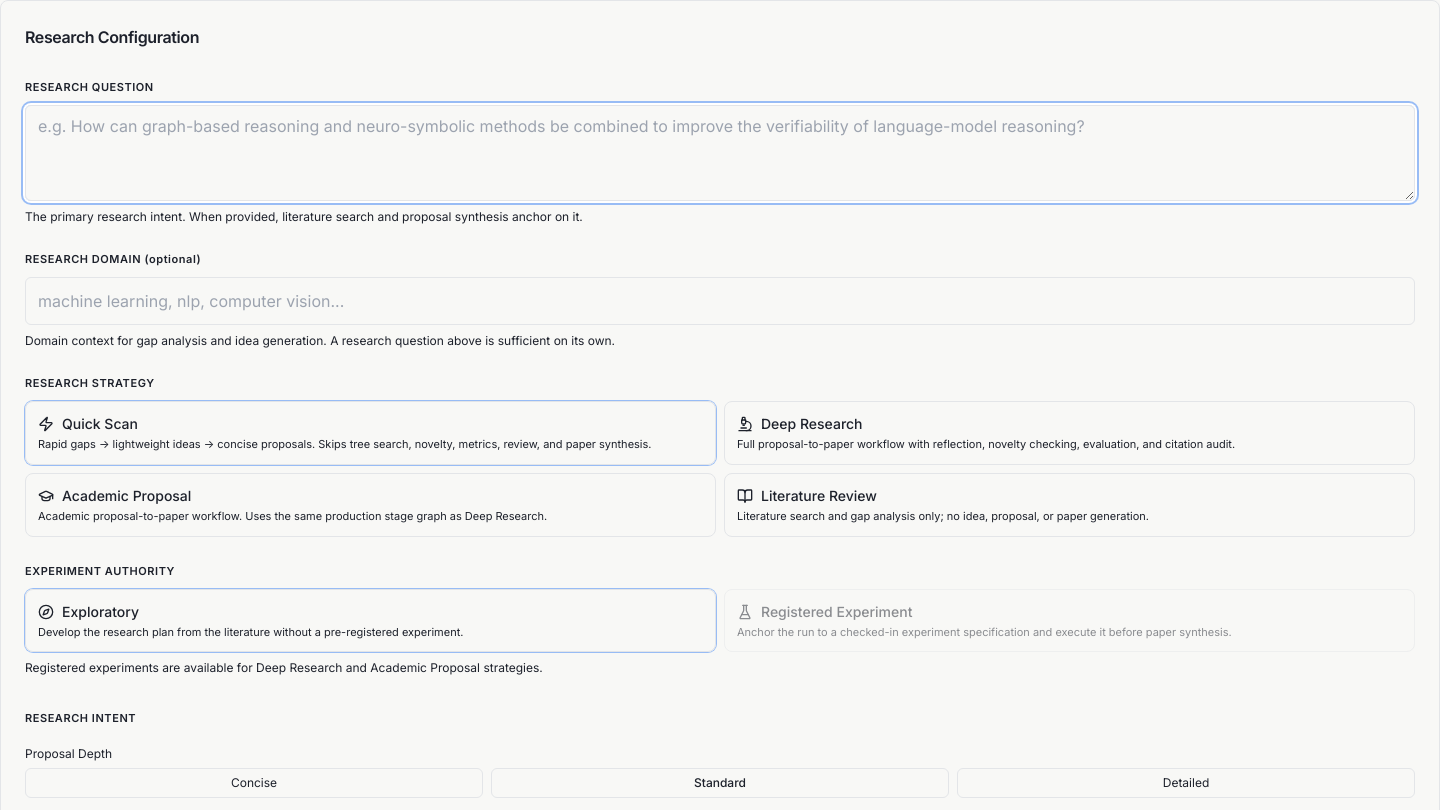
RunConfigForm empirical authority › clears a registered experiment when switching to an incompatible strategy
Click the button with test id "strategy-card-deep_research": (812, 424) [724,401,1415,465]
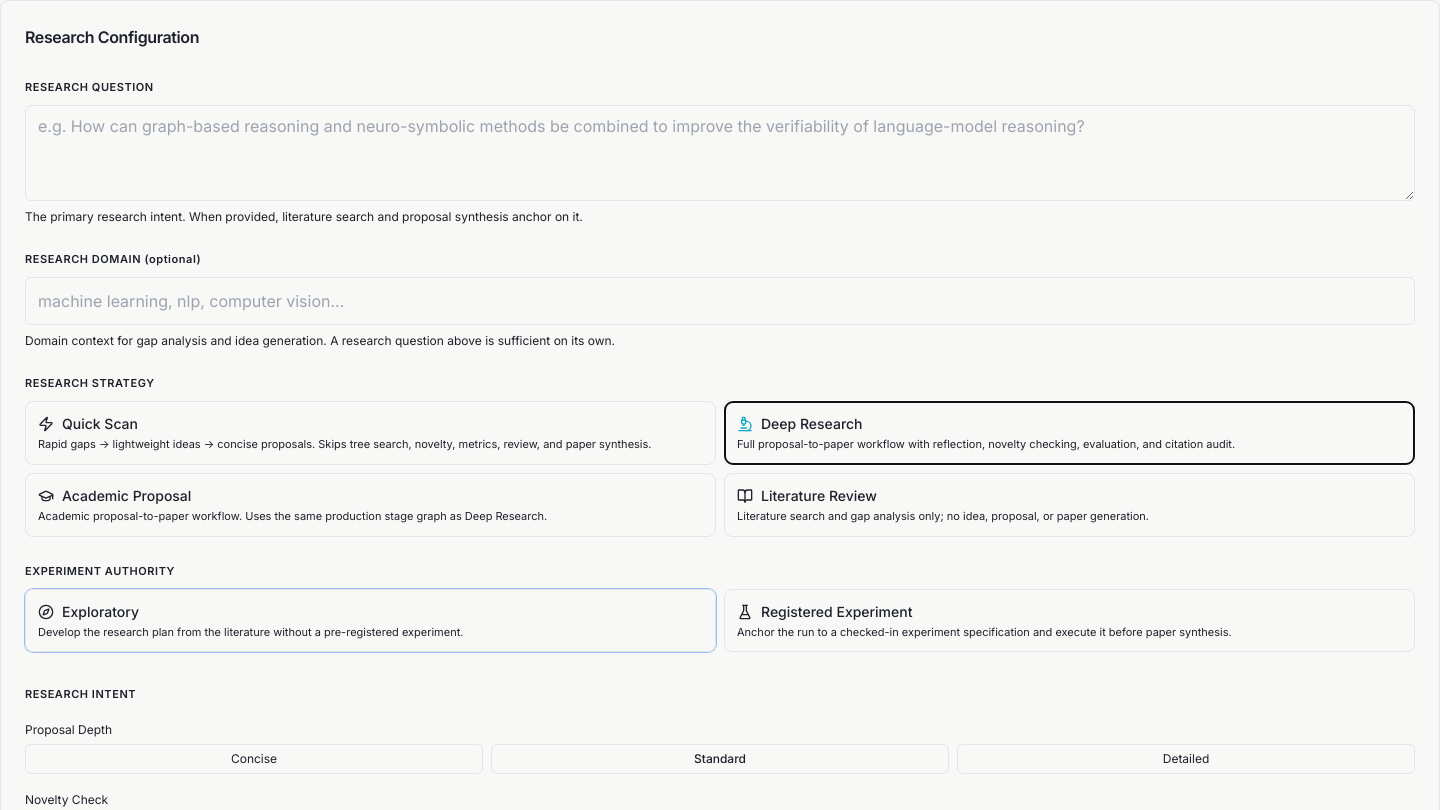
Click the button with test id "experiment-mode-registered": (837, 611) [724,588,1415,652]
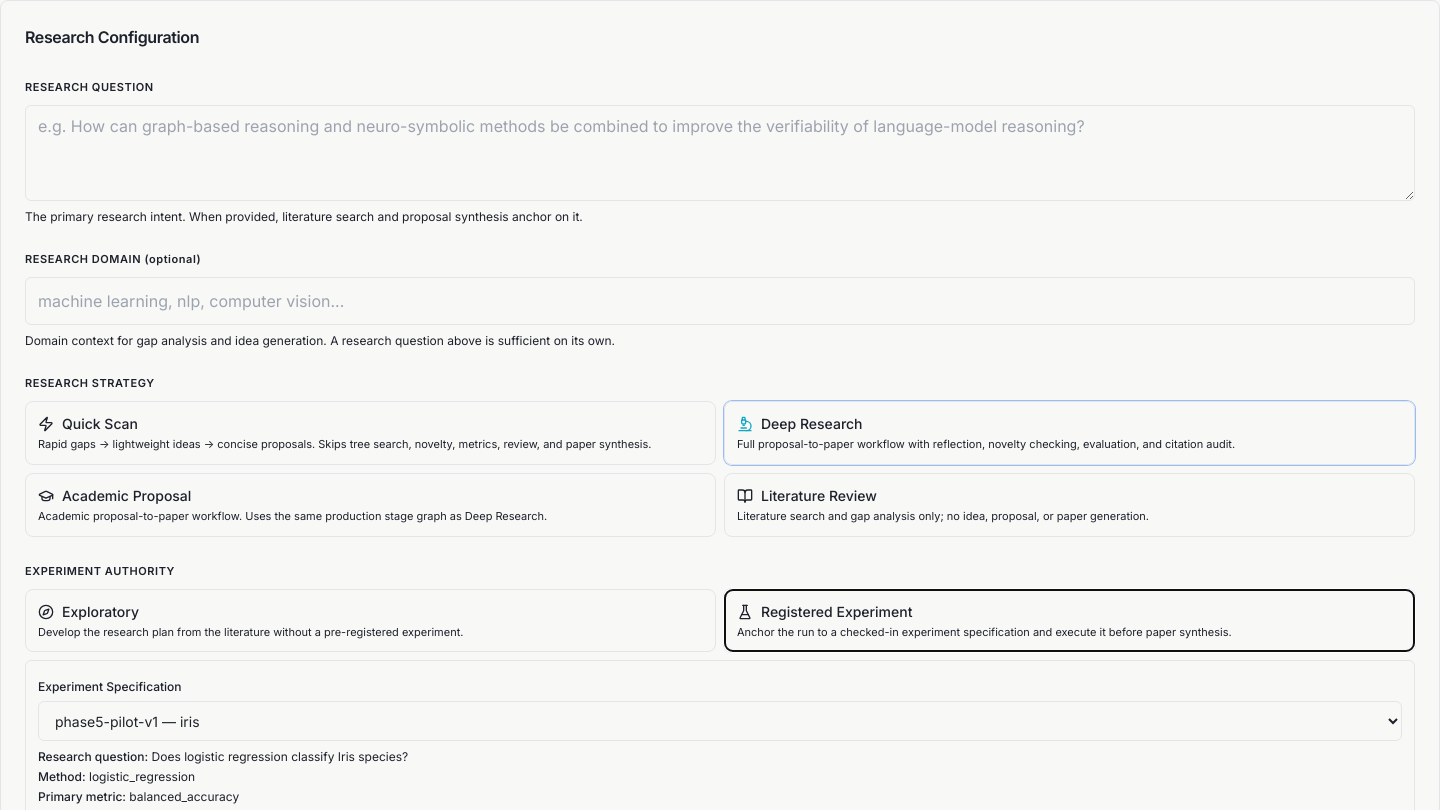
Click the button with test id "strategy-card-fast_scan": (100, 424) [25,401,716,465]
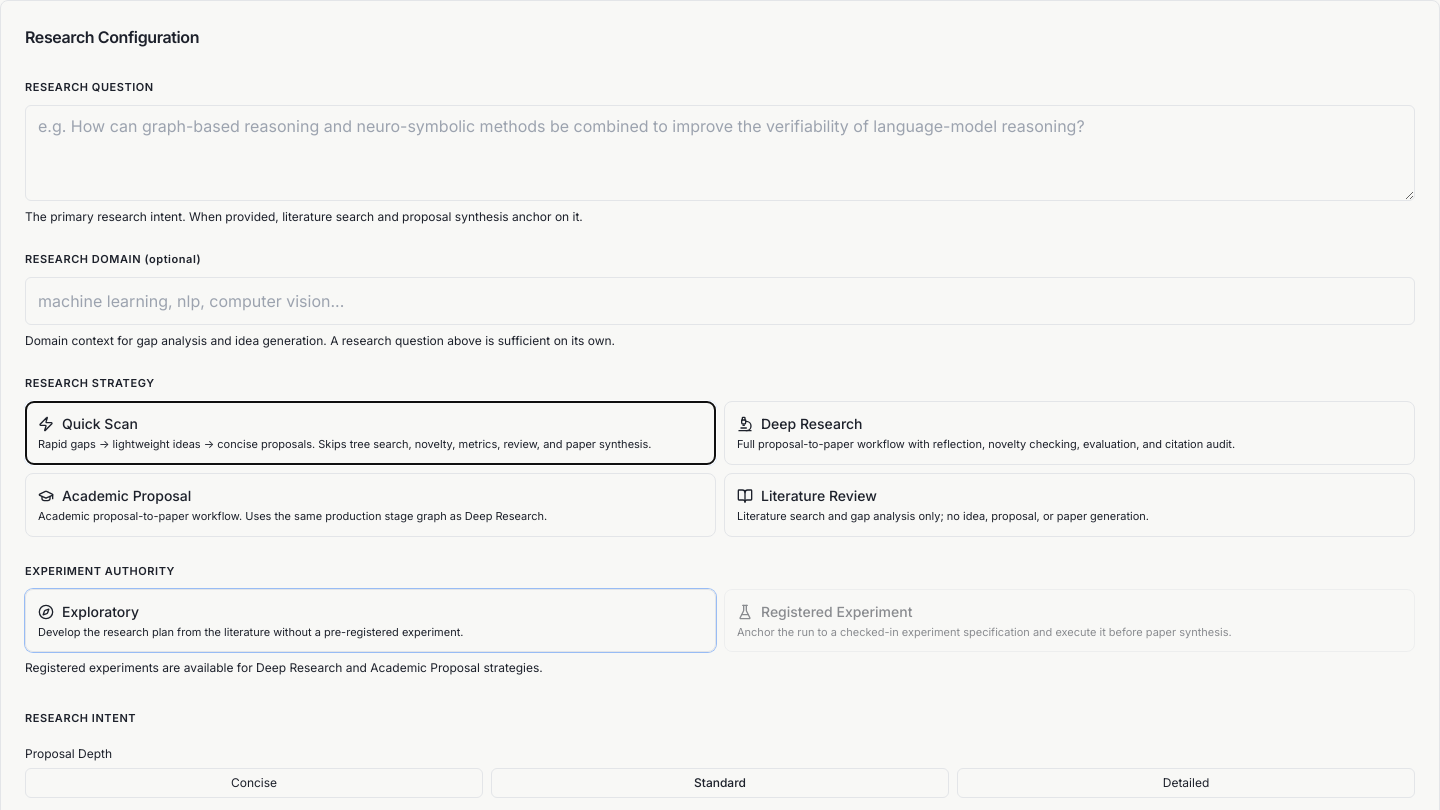
Check: the button with test id "experiment-mode-registered" is disabled, box [724,588,1415,652]
